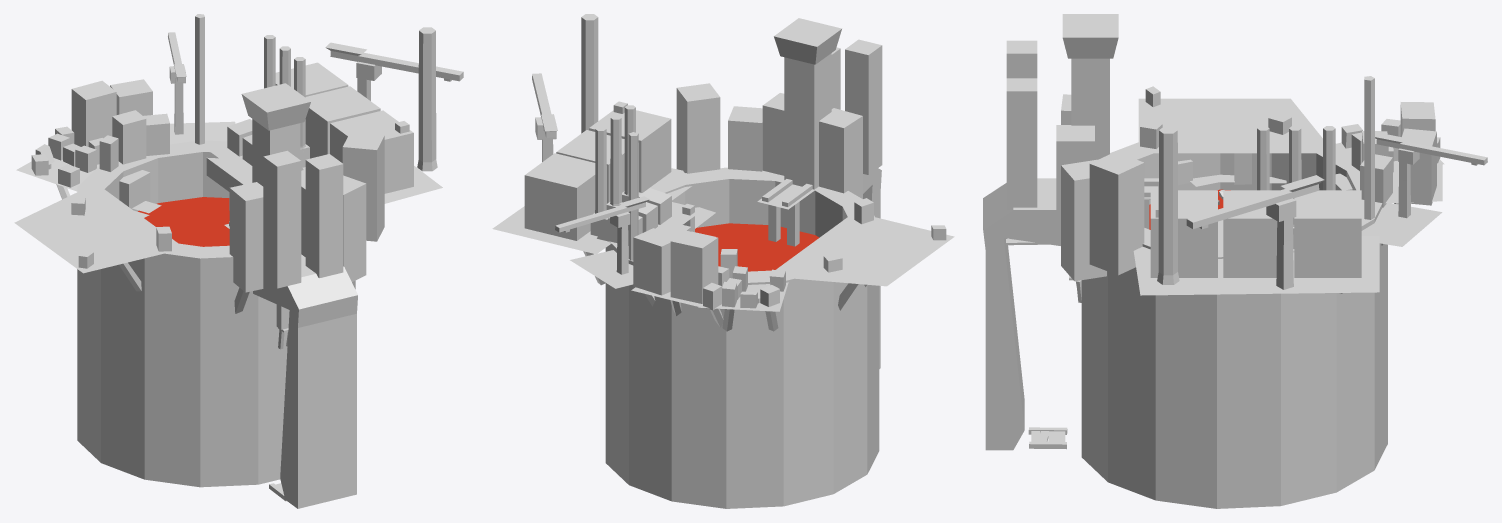
The model's file is mugcity.fbx.
3 views of the same model, side by side, from view 1: azimuth 30°, elevation 25°; view 2: azimuth 150°, elevation 25°; view 3: azimuth 270°, elevation 25° (orthographic). The views are drawn at different scales.
Parts seen in each view (by area): view 1: mug, Plane.002, Cube.051, Cube.050, Cube.031, Cube.016, coffee, Cube.030, Cube.014, Cylinder.011, Cube.025, Cube.029 (+19 smaller); view 2: mug, Plane.002, Cube.004, Cube.015, Cube.051, Cube.030, Cube.031, coffee, Cube.025, Cylinder.006, Cube.016, Cube.026 (+16 smaller); view 3: mug, Plane.002, Cylinder.006, Cube.030, Cube.015, Cube.050, Cube.014, Cube.016, Cube.028, Cube.029, Cube.004, Cylinder.011 (+14 smaller).
Part boxes in pixels (<box>): mug: <box>77,140,357,508</box>; Plane.002: <box>14,183,184,273</box>; Cube.051: <box>263,150,301,288</box>; Cube.050: <box>305,154,343,278</box>; Cube.031: <box>229,182,263,292</box>; Cube.016: <box>330,110,413,193</box>; coffee: <box>138,197,229,246</box>; Cube.030: <box>342,132,384,241</box>; Cube.014: <box>305,86,380,158</box>; Cylinder.011: <box>417,27,437,171</box>; Cube.025: <box>71,80,116,146</box>; Cube.029: <box>343,175,366,281</box>; mug: <box>605,167,881,508</box>; Plane.002: <box>767,212,954,286</box>; Cube.004: <box>784,53,831,189</box>; Cube.015: <box>524,153,606,240</box>; Cube.051: <box>845,39,882,174</box>; Cube.030: <box>676,83,720,173</box>; Cube.031: <box>819,108,862,198</box>; coffee: <box>695,223,819,271</box>; Cube.025: <box>670,230,718,303</box>; Cylinder.006: <box>492,132,691,285</box>; Cube.016: <box>589,110,671,192</box>; Cube.026: <box>633,228,677,295</box>; mug: <box>983,142,1387,508</box>; Plane.002: <box>1138,98,1322,153</box>; Cylinder.006: <box>1133,76,1379,295</box>; Cube.030: <box>1089,151,1144,275</box>; Cube.015: <box>1294,190,1361,277</box>; Cube.050: <box>1006,78,1037,210</box>; Cube.014: <box>1223,190,1279,277</box>; Cube.016: <box>1150,190,1217,277</box>; Cube.028: <box>1186,175,1324,289</box>; Cube.029: <box>1061,159,1106,281</box>; Cube.004: <box>1071,58,1109,159</box>; Cylinder.011: <box>1157,126,1179,284</box>.
Bounding box in the file's own units: 2654 × 2369 × 2604.
